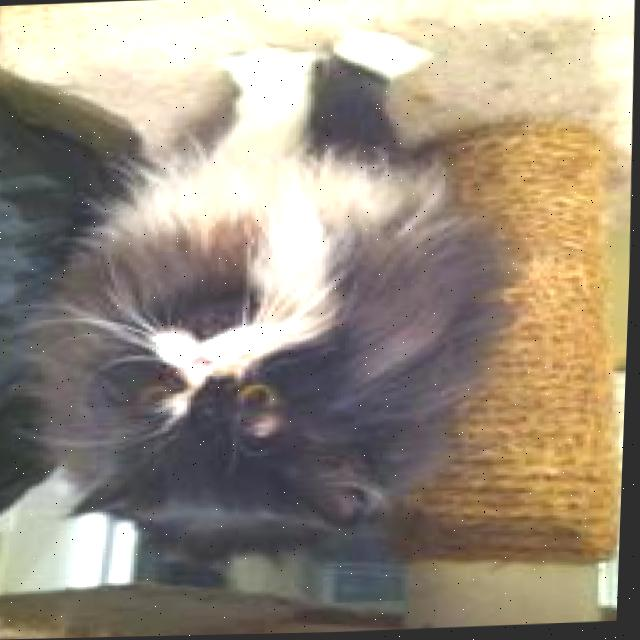Persian: (23, 21, 507, 563)
